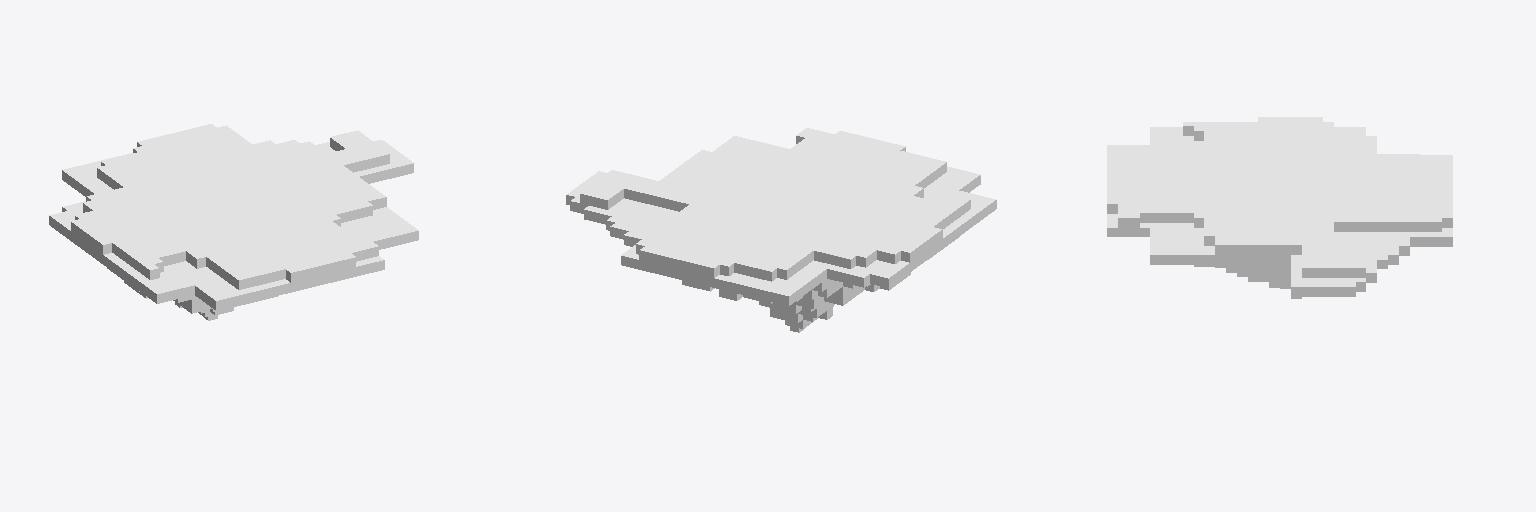
The model's file is ice_land3.obj.
3 views of the same model, side by side, from view 1: azimuth 30°, elevation 25°; view 2: azimuth 150°, elevation 25°; view 3: azimuth 270°, elevation 25° (orthographic).
Visible parts, largest first — view 1: object 1; view 2: object 1; view 3: object 1.
Part boxes in pixels (x1,y1,x2,y2): object 1: (49, 124, 418, 320); object 1: (566, 128, 996, 332); object 1: (1107, 117, 1452, 298).
Size of the model in its own units: 3.5 by 1.2 by 3.2.